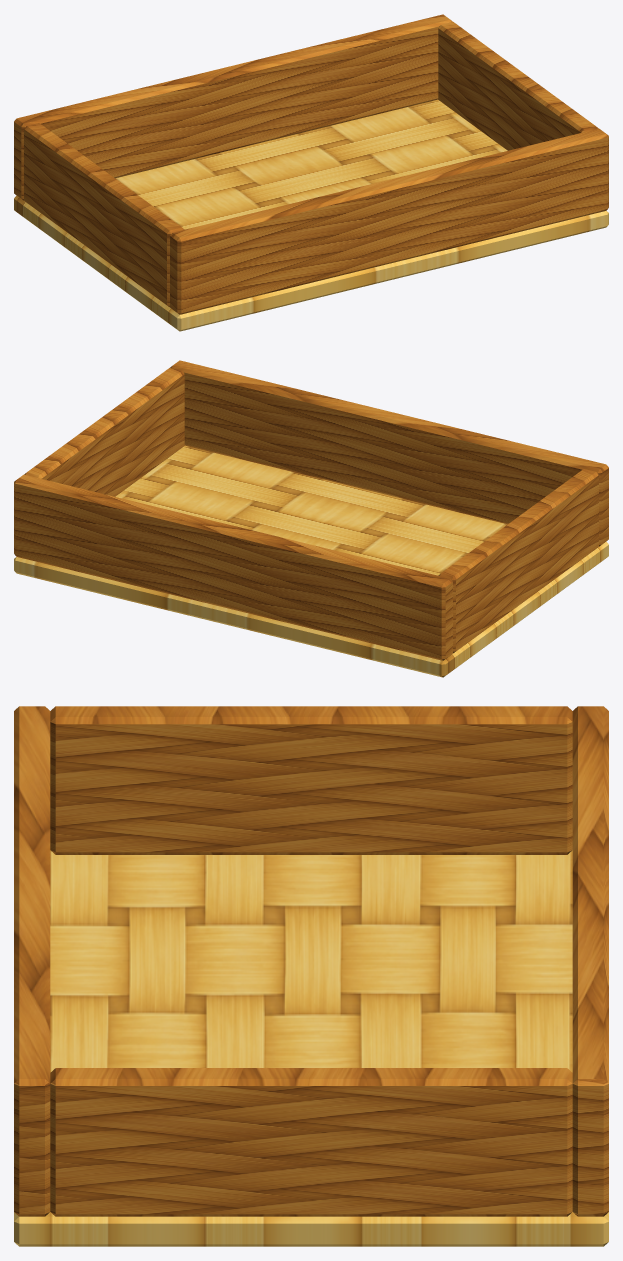
The model's file is woven_tray-Dfnjz5sP.glb.
3 renders of one model, top to bottom at view 1: azimuth 30°, elevation 25°; view 2: azimuth 150°, elevation 25°; view 3: azimuth 270°, elevation 25°, orthographic. The views are drawn at different scales.
Parts seen in each view (by area): view 1: HI_woven_tray; view 2: HI_woven_tray; view 3: HI_woven_tray.
Boxes of the visible parts, x1,y1,x2,y2 form: HI_woven_tray: (14, 14, 608, 331); HI_woven_tray: (14, 360, 608, 677); HI_woven_tray: (14, 706, 608, 1246).
Size of the model in its own units: 1.35 by 0.28 by 0.9.
1 material, 1 textured.
